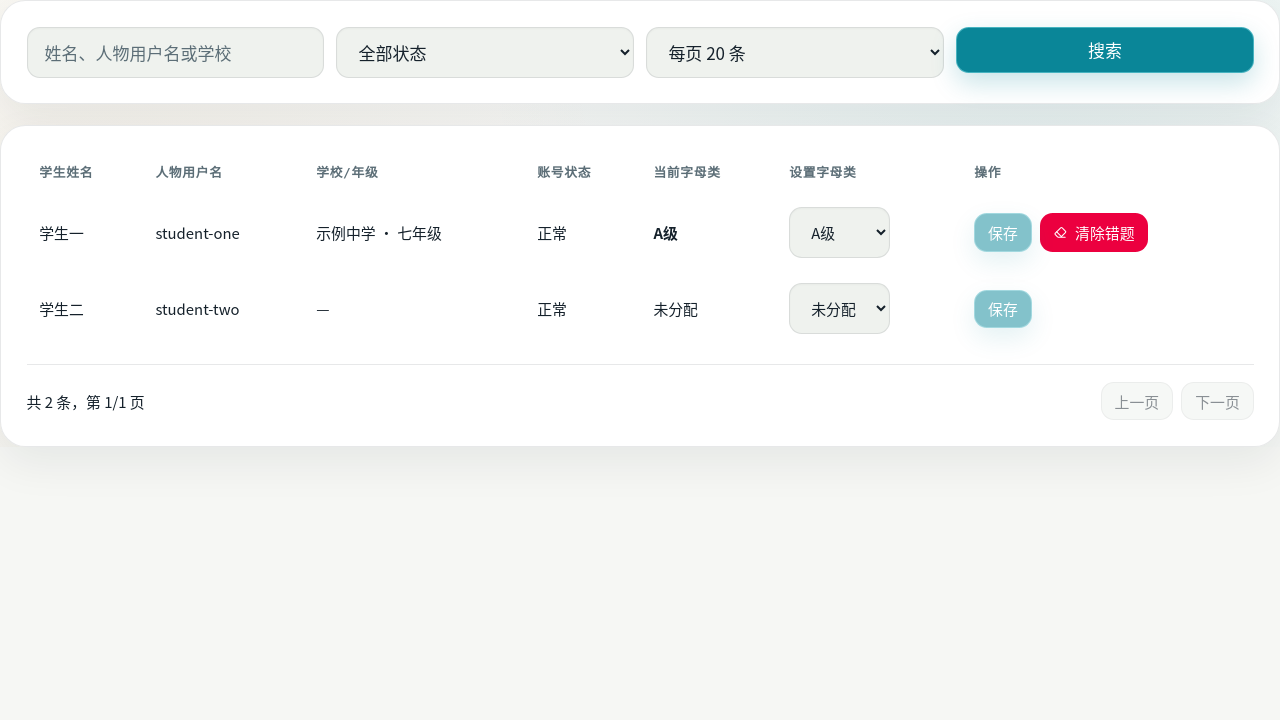
TeacherStudentManager › saves a new activeLevel and updates the row locally
Select "B级" in the dropdown named "设置 学生二 的字母类": coordinates (840, 309) left=789, top=284, right=890, bottom=334
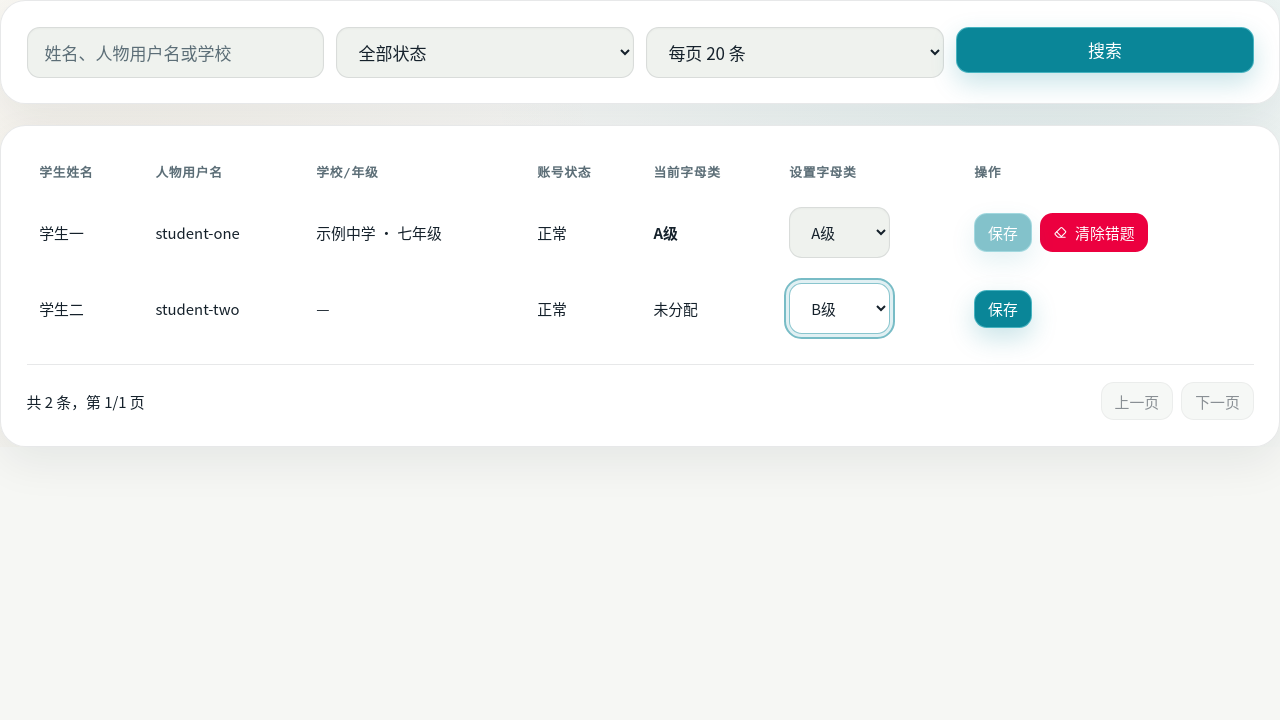
Click the button "保存" in the row of "学生二": coordinates (1003, 309) left=974, top=290, right=1032, bottom=328
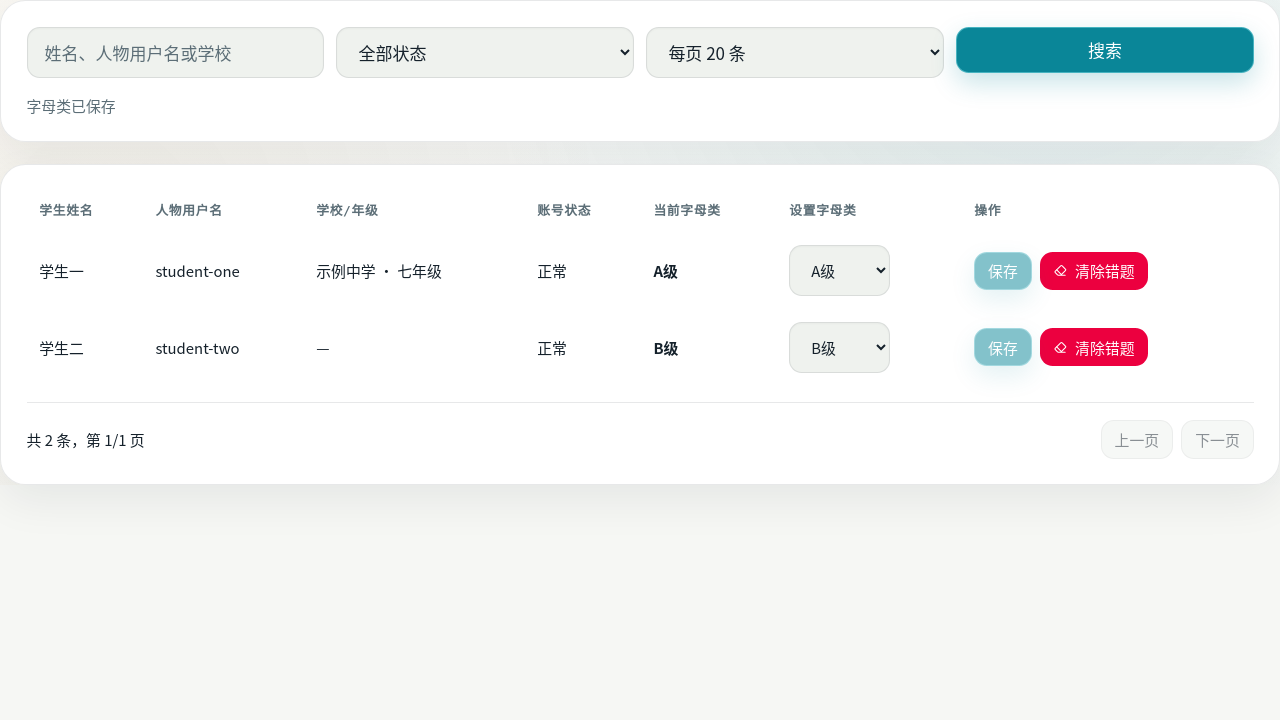
Expected: the text "字母类已保存" is shown, left=26, top=94, right=116, bottom=116
Expected: the text "B级" is shown, left=653, top=337, right=678, bottom=358
